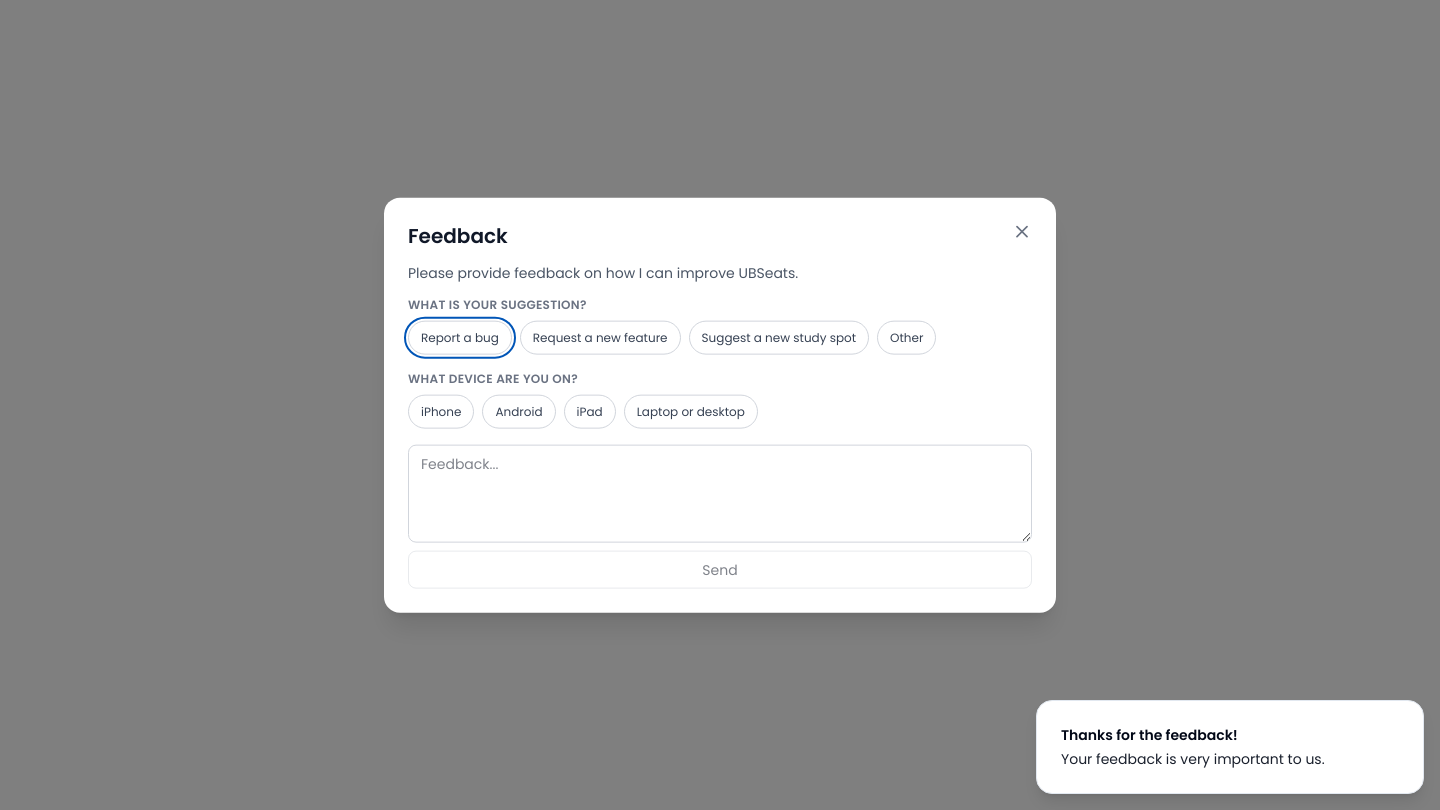
Test case: FeedbackModal › keeps the message and explains when sending fails
The width and height of the screenshot is (1440, 810).
Click the button "Report a bug" at (460, 337), box [408,320,512,354]
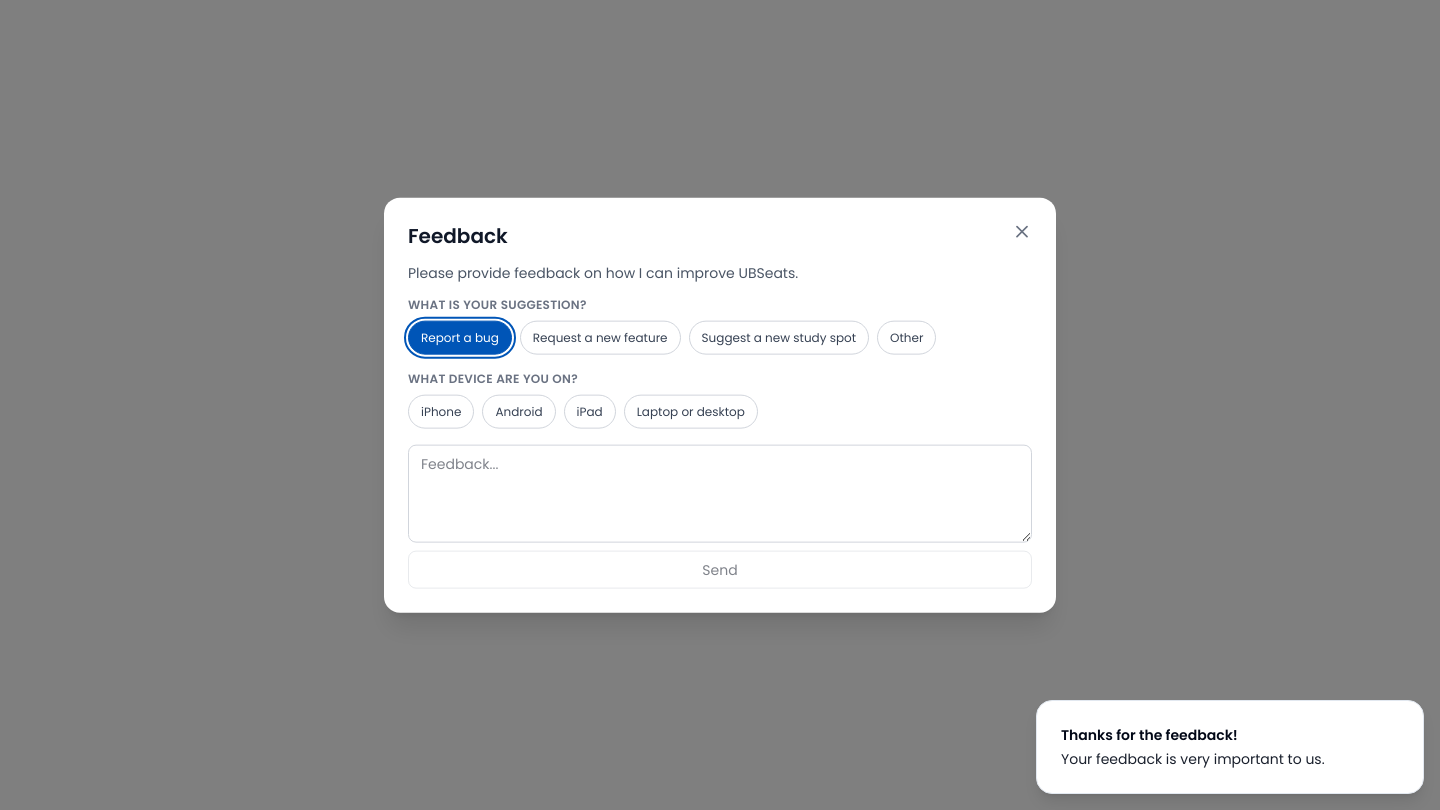
Click the button "Laptop or desktop" at (691, 411), box [624,394,758,428]
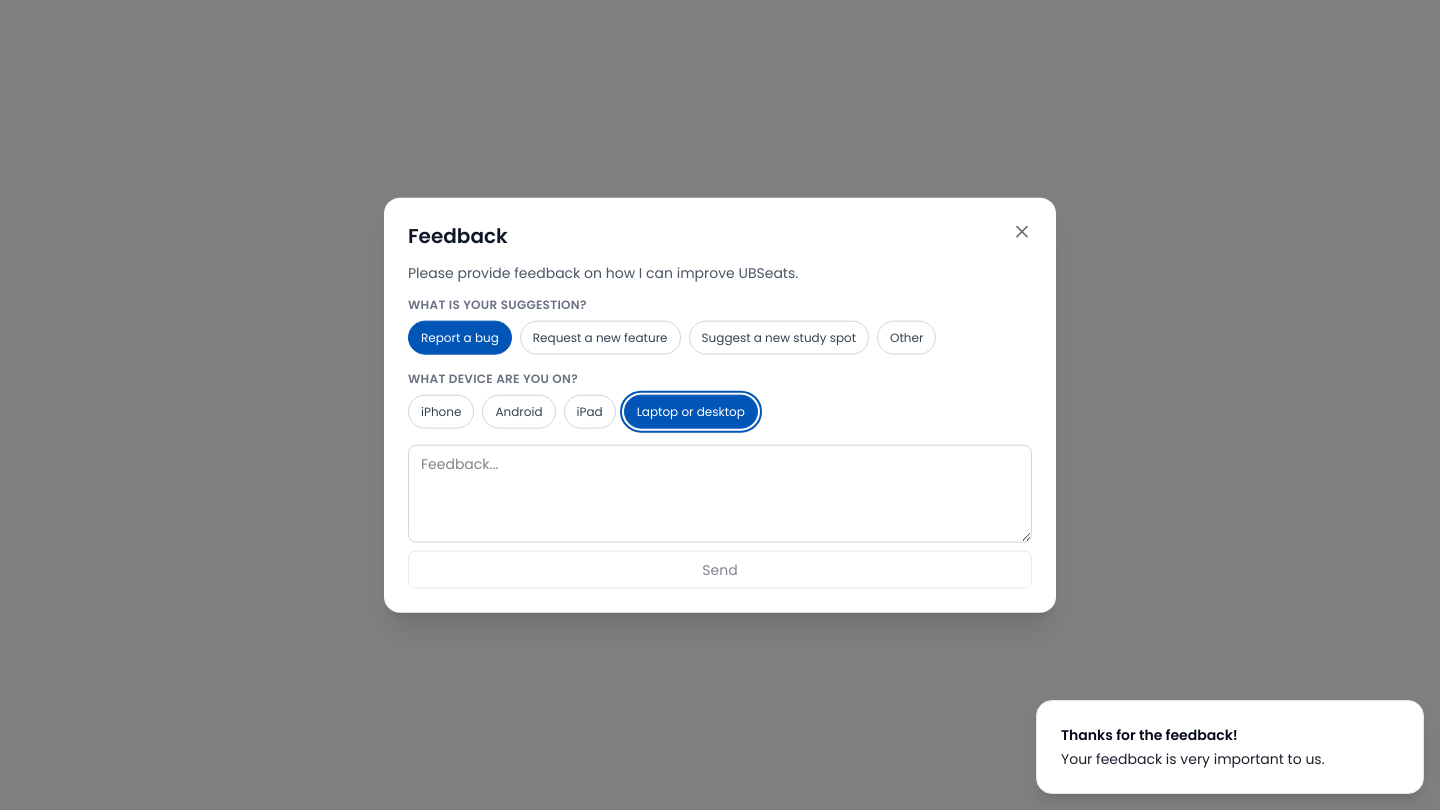
Type "  Map is slow  " into the text box named "Feedback message" at (720, 493), box [408,444,1032,542]
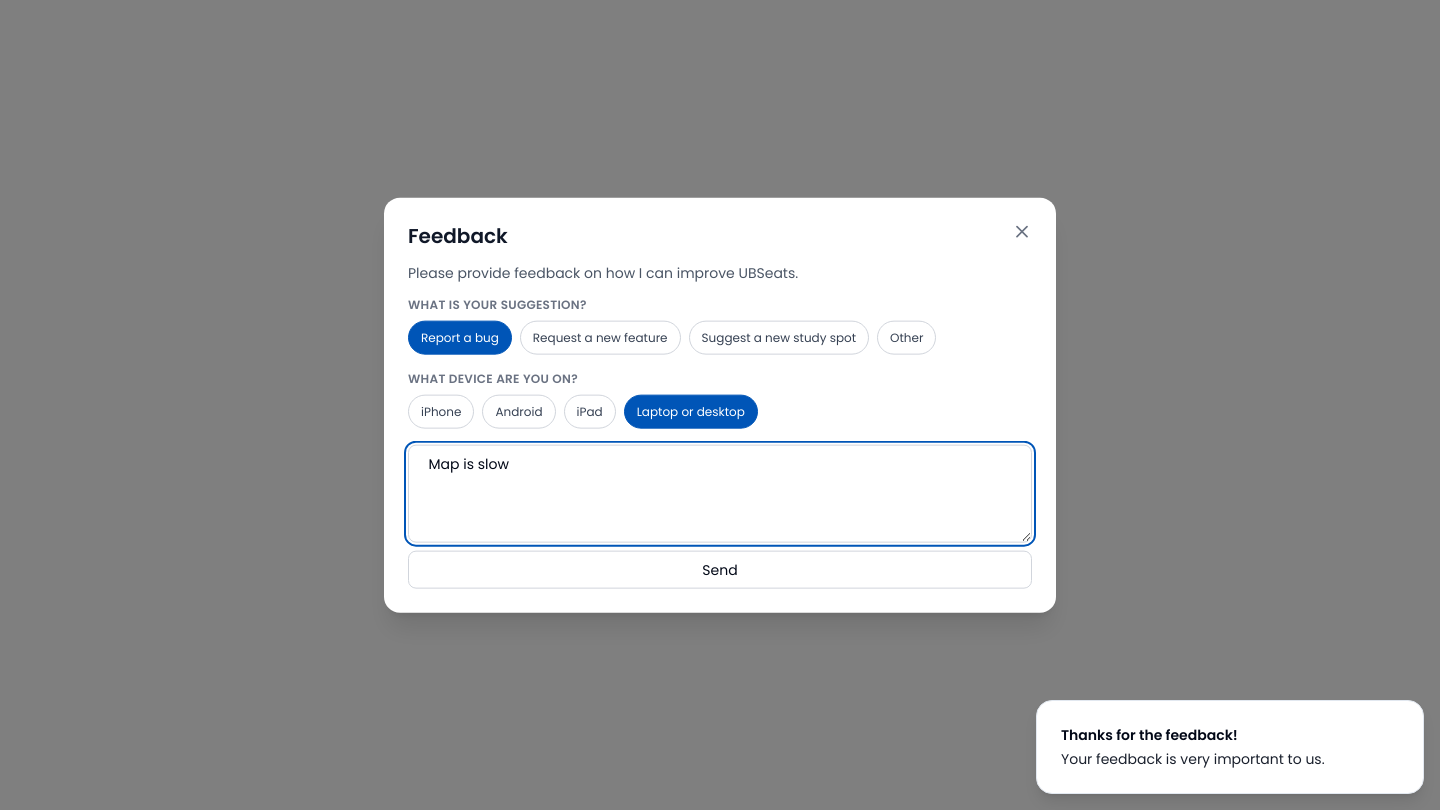
Click the button "Send" at (720, 569), box [408,550,1032,588]
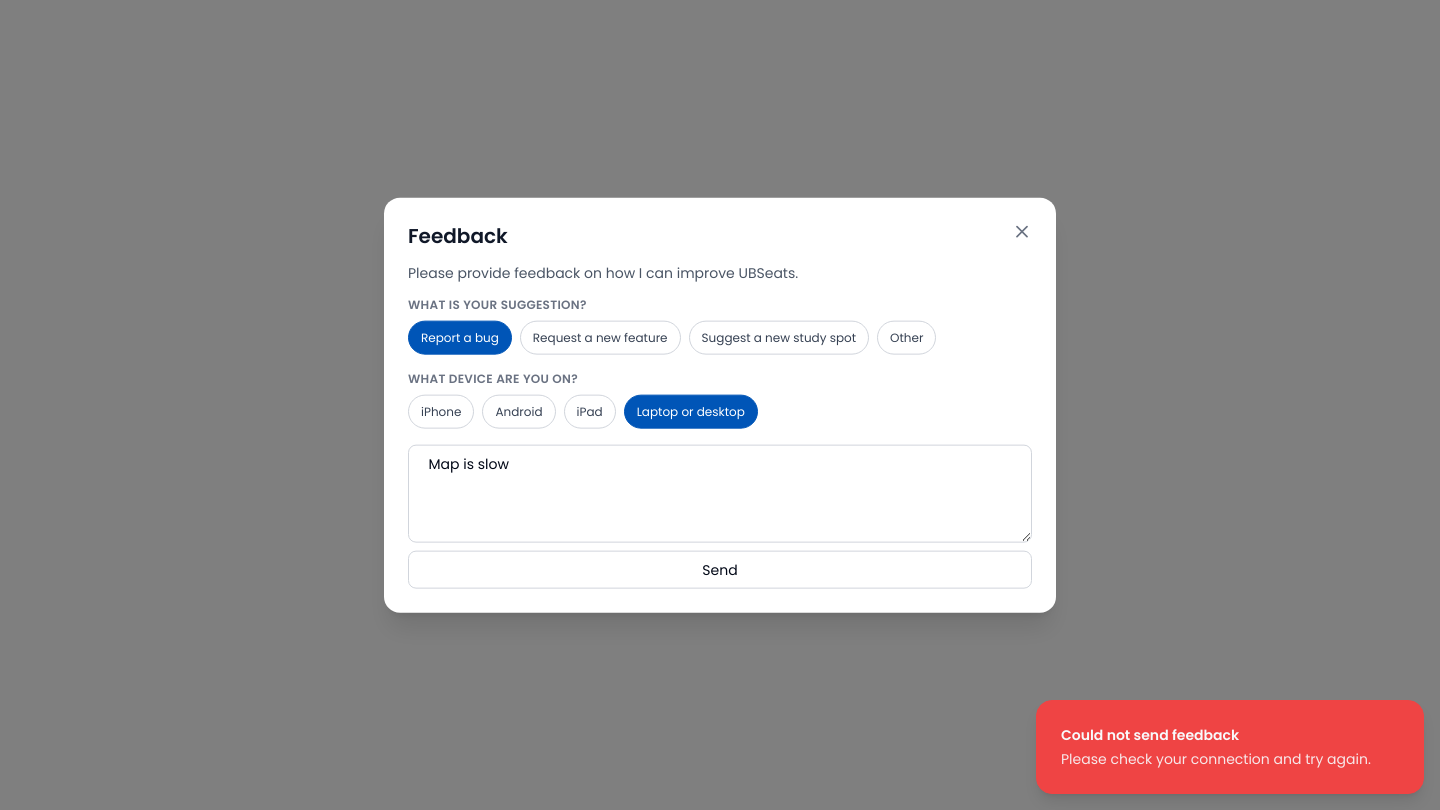
expect the text "Could not send feedback" is shown: met, box [1061,725,1239,745]
expect the text "Please check your connection and try again." is shown: met, box [1061,749,1371,769]
